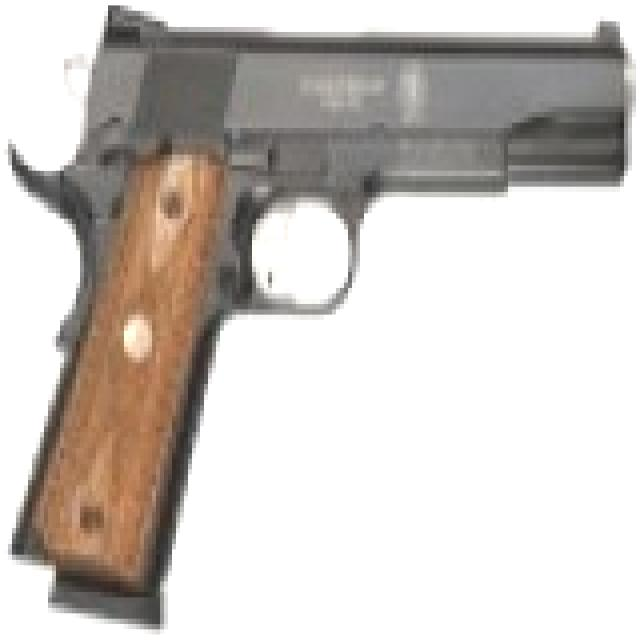pistol: (20, 11, 636, 618)
